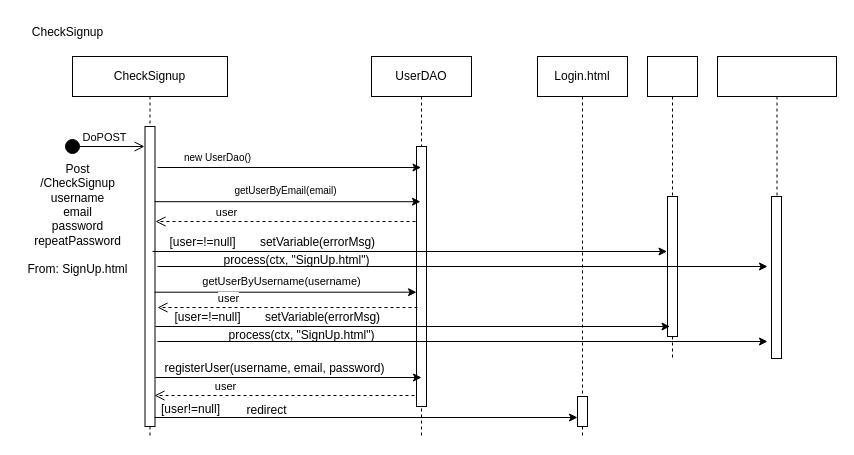
Image size: 854x455. Some labels were removed from this diagram. Here are the shapes that lost their labels. From the top down, the centre of each, then its label:
At (x=672, y=207): "ctx".
At (x=776, y=207): "TemplateEngine".
